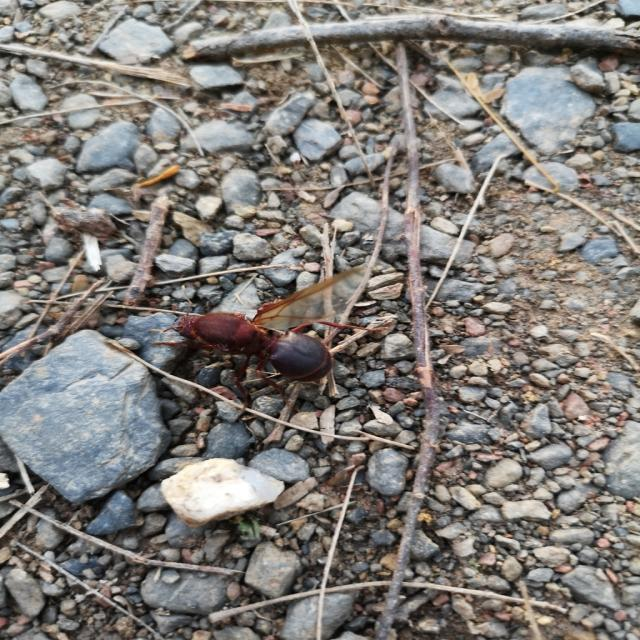Alive-Female-Alate: (146, 266, 390, 412)
